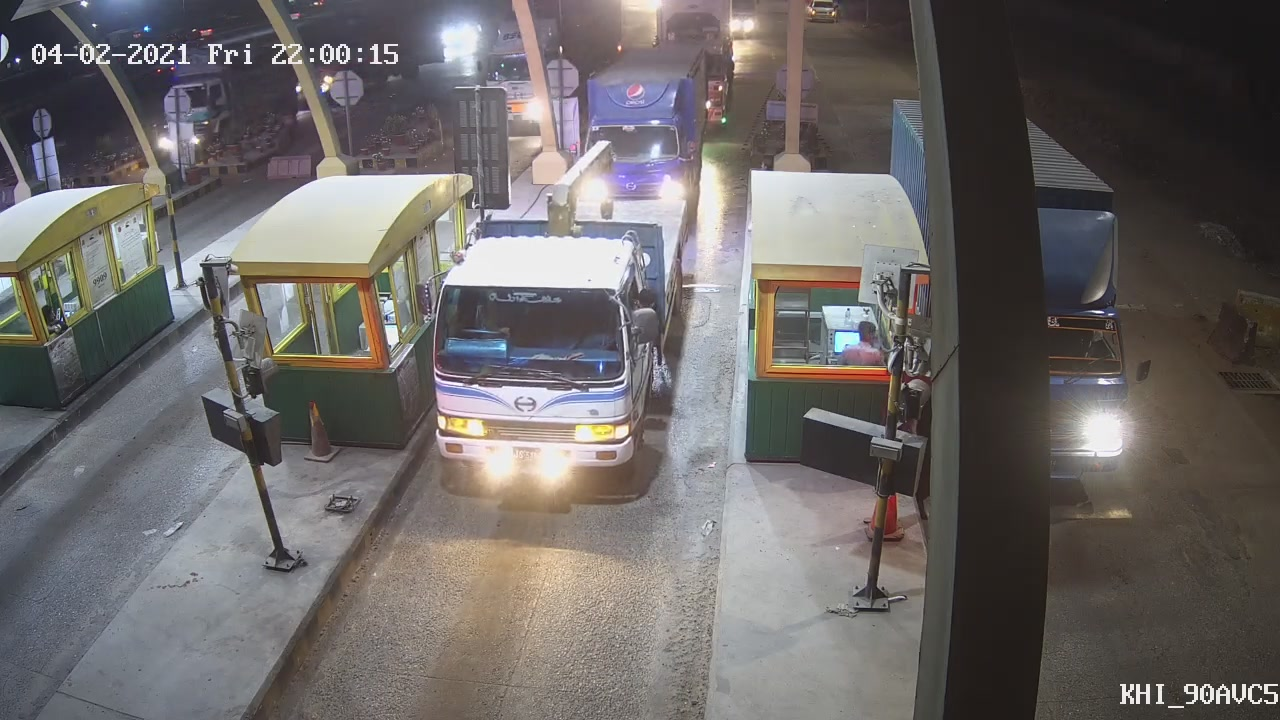F6: (414, 199, 680, 500)
